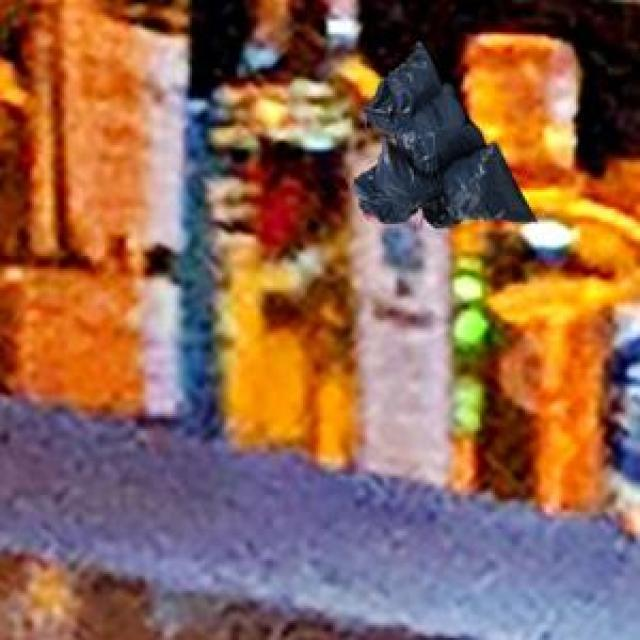miscellaneous trash: (350, 38, 531, 224)
